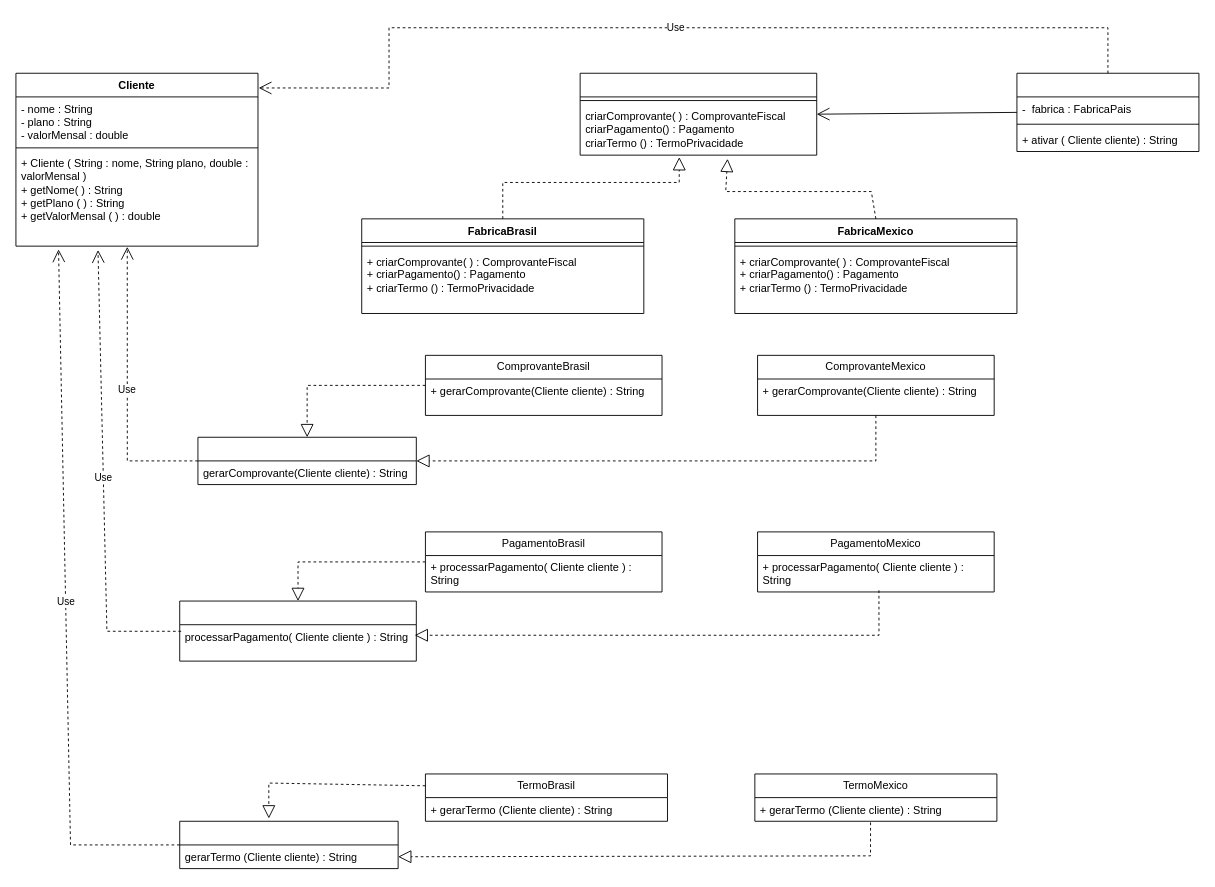
Some shapes in this 1215 by 887 pixel diagram are drawn without their labels. The shapes that lost their labels are listed below. From the top down, each one's box as (x1, y1, x2, y2) in pixels, then its label:
(579, 72, 817, 155): <<interface>> FabricaPais
(1016, 72, 1199, 152): Assinatura
(197, 436, 416, 485): <<interface>> ComprovanteFiscal
(179, 600, 416, 661): <<interface>> Pagamento
(179, 820, 398, 869): <<interface>> TermoPrivacidade
